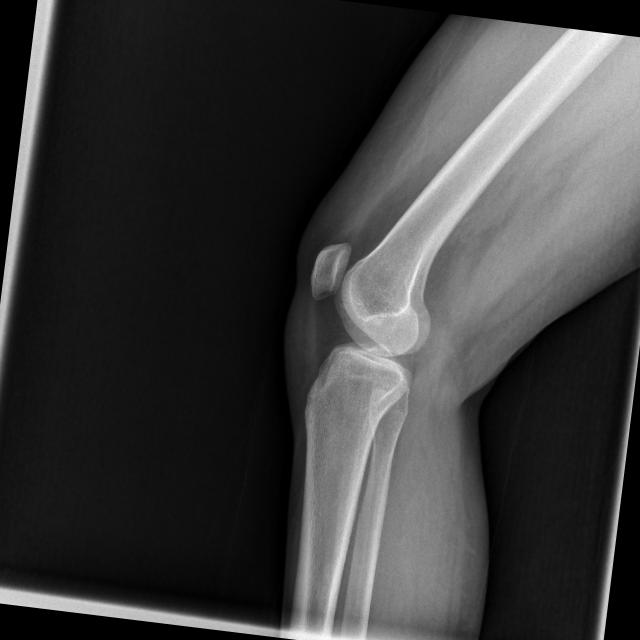Knee: (291, 222, 449, 440)
